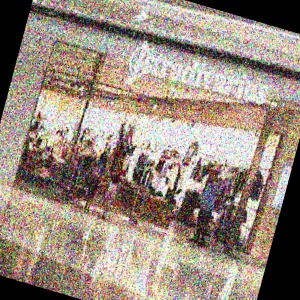stradivarius: (210, 35, 300, 107)
